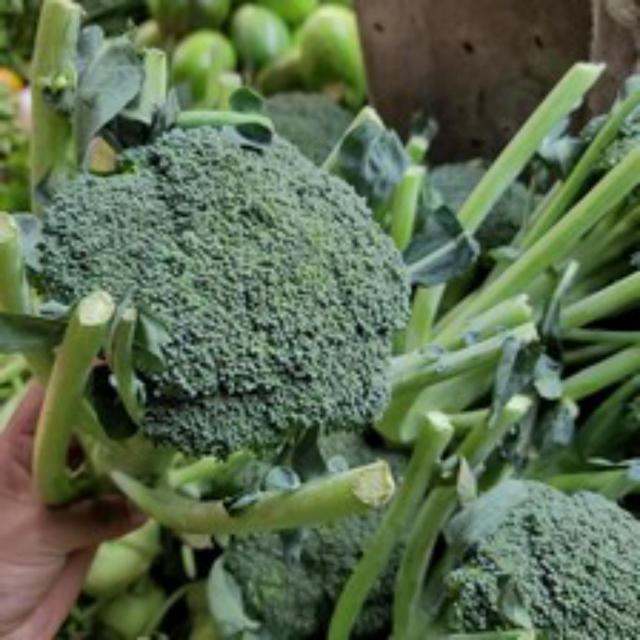broccoli: (43, 111, 423, 462)
